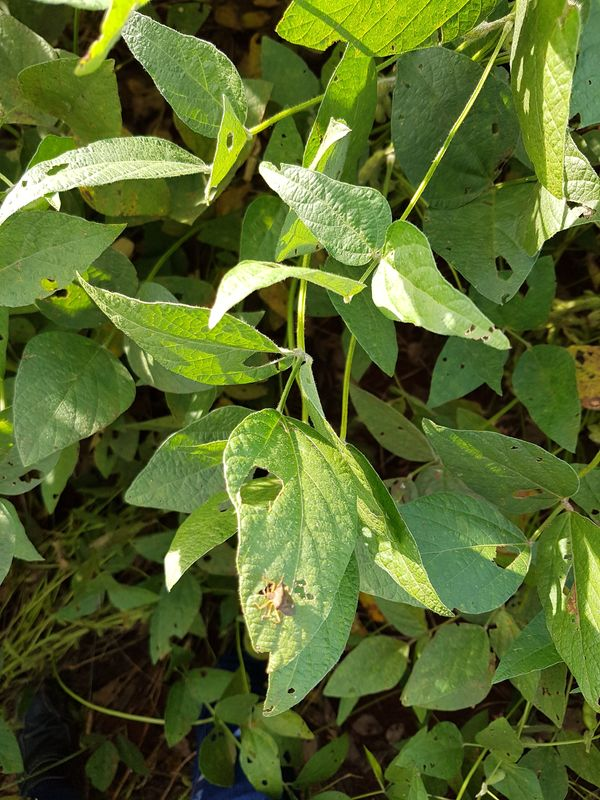Euschistus_heros_adulto: (251, 570, 302, 627)
